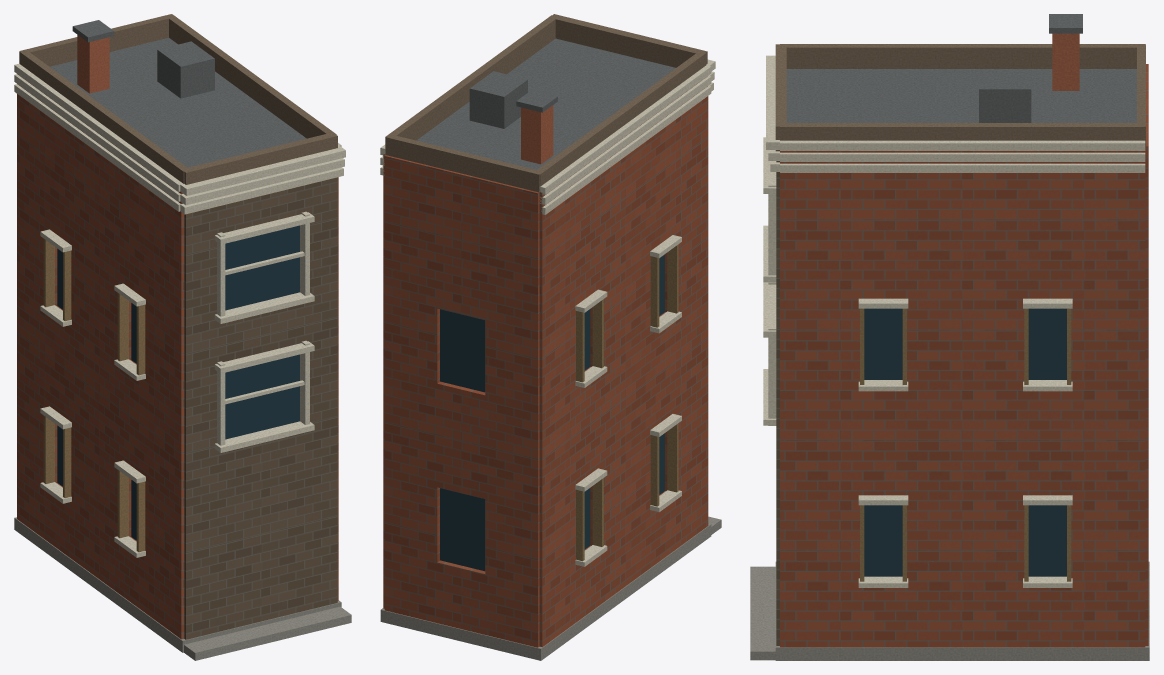
The model's file is VICT18_lod2.glb.
The picture shows the model from 3 angles, left to right: view 1: azimuth 30°, elevation 25°; view 2: azimuth 150°, elevation 25°; view 3: azimuth 270°, elevation 25°; orthographic projection. The views are drawn at different scales.
Visible parts, largest first — view 1: VICT18_LOD2; view 2: VICT18_LOD2; view 3: VICT18_LOD2.
Boxes of the visible parts, x1,y1,x2,y2 form: VICT18_LOD2: (14, 14, 351, 660); VICT18_LOD2: (380, 14, 721, 660); VICT18_LOD2: (750, 14, 1149, 660).
Size of the model in its own units: 3.71 by 10.45 by 6.57.
Materials: 10 (8 with a texture image).
